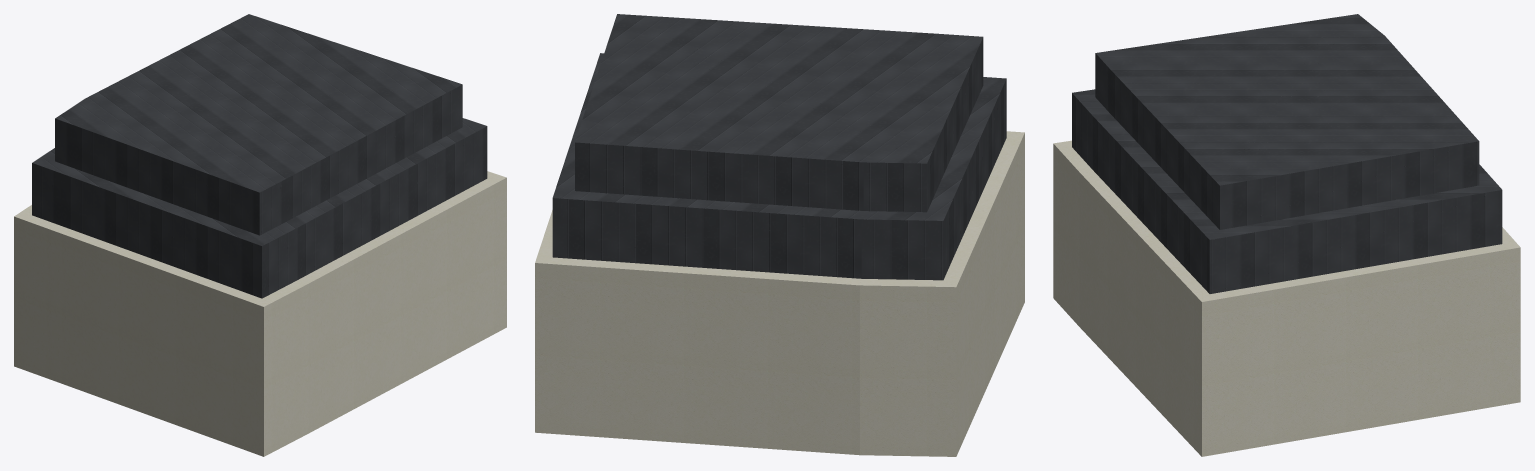
3 views of the same model, side by side, from view 1: azimuth 30°, elevation 25°; view 2: azimuth 150°, elevation 25°; view 3: azimuth 270°, elevation 25° (orthographic). The views are drawn at different scales.
Visible parts, largest first — view 1: lmbase_503713425, lmbase_503713425_roof_b, lmbase_503713425_roof_a; view 2: lmbase_503713425, lmbase_503713425_roof_b, lmbase_503713425_roof_a; view 3: lmbase_503713425, lmbase_503713425_roof_b, lmbase_503713425_roof_a.
Part boxes in pixels (<box>): lmbase_503713425: <box>14,171,506,456</box>; lmbase_503713425_roof_b: <box>55,14,462,235</box>; lmbase_503713425_roof_a: <box>32,118,487,298</box>; lmbase_503713425: <box>535,131,1024,456</box>; lmbase_503713425_roof_b: <box>575,14,983,212</box>; lmbase_503713425_roof_a: <box>552,53,1006,280</box>; lmbase_503713425: <box>1053,140,1520,456</box>; lmbase_503713425_roof_b: <box>1095,14,1479,229</box>; lmbase_503713425_roof_a: <box>1072,89,1502,293</box>.
Size of the model in its own units: 18.86 by 10.8 by 18.05.
2 materials, 2 textured.
